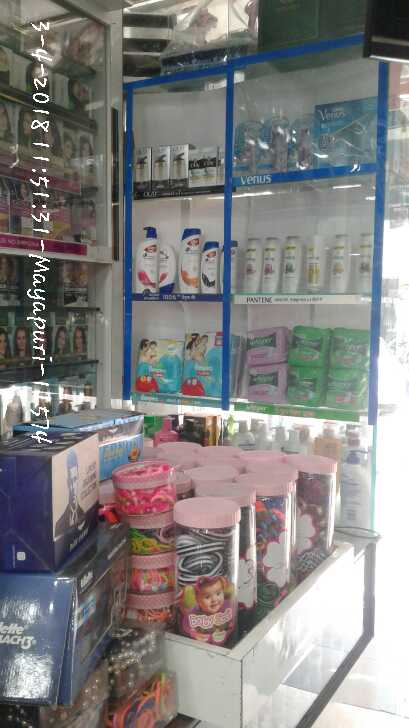venus: (312, 94, 378, 167), (257, 112, 290, 173), (234, 121, 259, 174), (290, 112, 312, 167)
